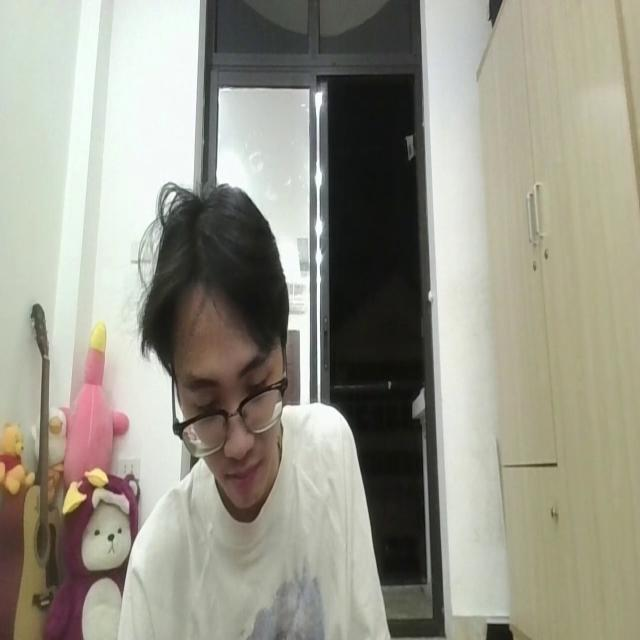student: (126, 177, 399, 640)
